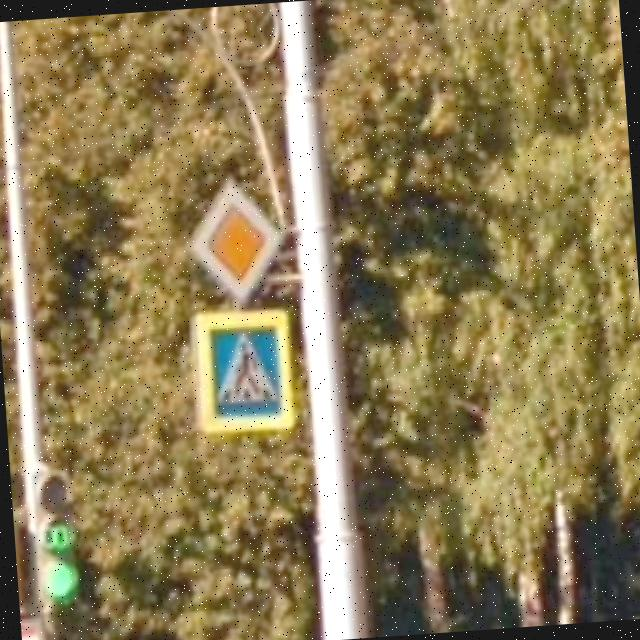Droga z pierwszenstwem: (180, 168, 292, 314)
Przejscie dla pieszych: (184, 304, 300, 442)
